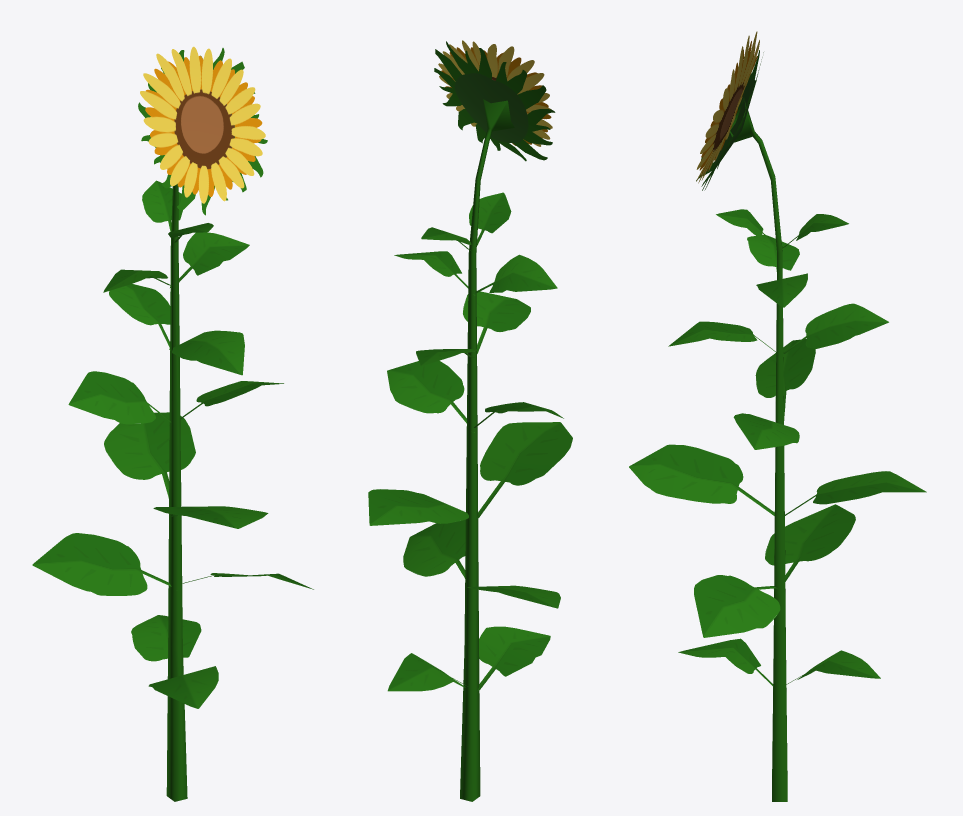
The model's file is PT_Sunflower_02.fbx.
3 views of the same model, side by side, from view 1: azimuth 30°, elevation 25°; view 2: azimuth 150°, elevation 25°; view 3: azimuth 270°, elevation 25° (orthographic).
Visible parts, largest first — view 1: PT_Sunflower_02_LOD0; view 2: PT_Sunflower_02_LOD0; view 3: PT_Sunflower_02_LOD0.
Boxes of the visible parts, x1,y1,x2,y2 form: PT_Sunflower_02_LOD0: (32,46,313,801); PT_Sunflower_02_LOD0: (368,40,572,801); PT_Sunflower_02_LOD0: (629,31,926,801).
Size of what is drawn, in the model's own units: 57.62 by 170 by 67.51.
